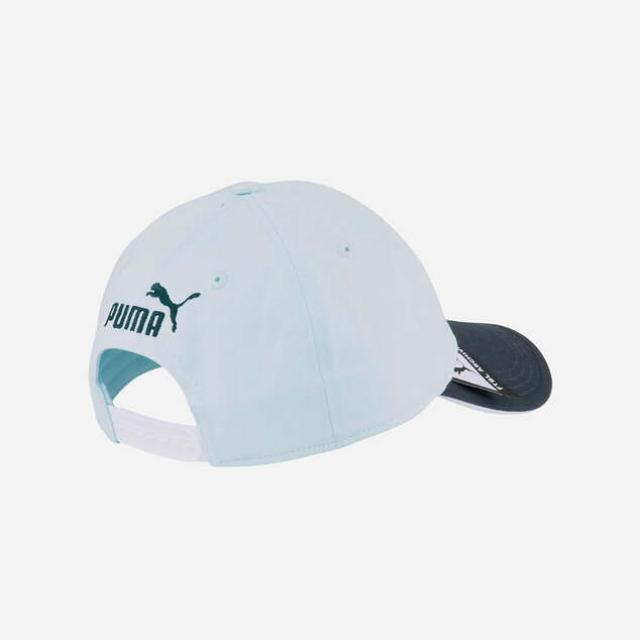Nonhelmet: (84, 174, 554, 470)
